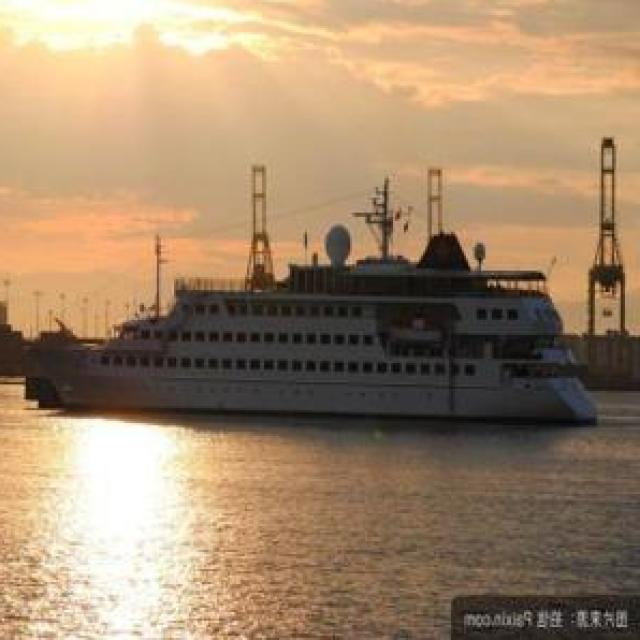passenger ship: (33, 243, 601, 422)
